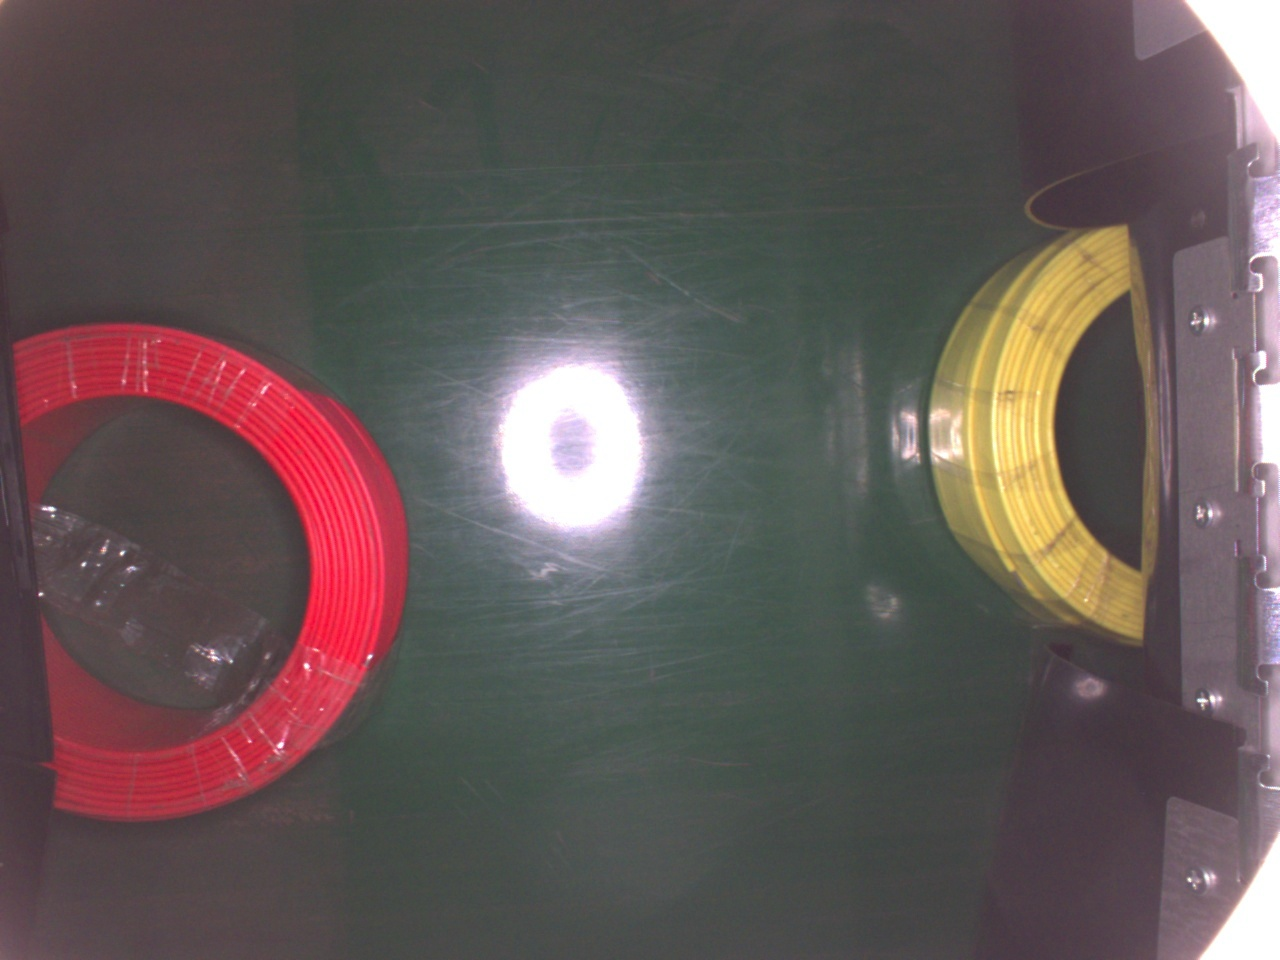red: (4, 314, 409, 824)
yellow: (925, 216, 1147, 650)
